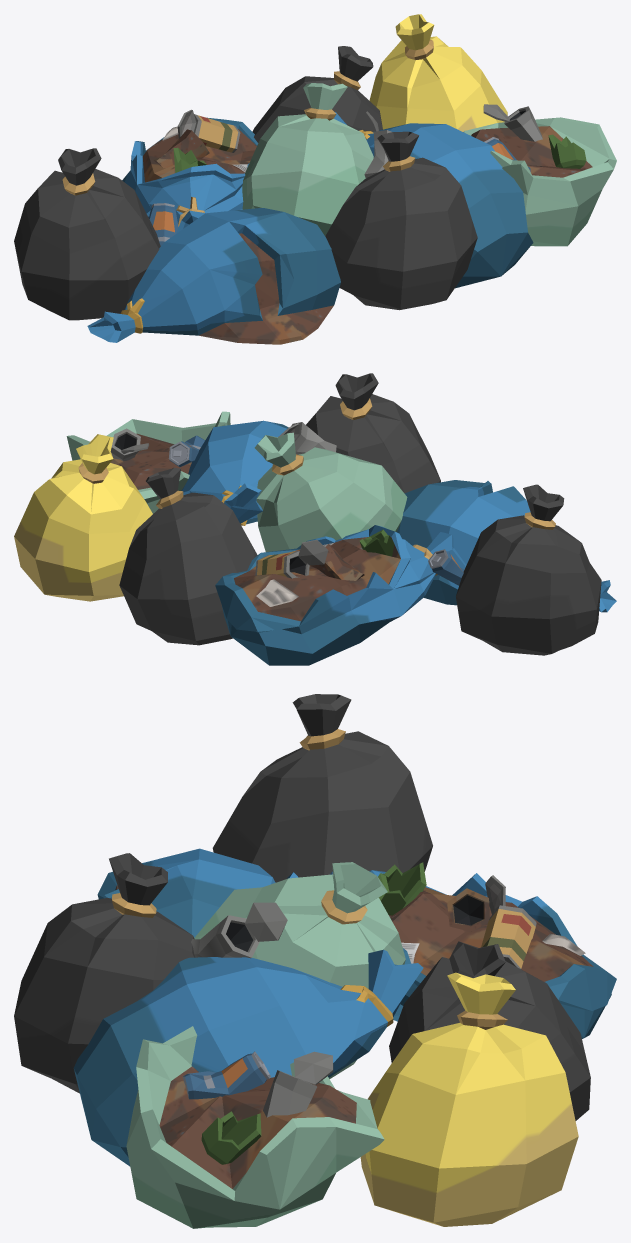
File: SM_Prop_Trash_02.obj
3 renders of one model, top to bottom at view 1: azimuth 30°, elevation 25°; view 2: azimuth 150°, elevation 25°; view 3: azimuth 270°, elevation 25°, orthographic. The views are drawn at different scales.
Visible parts, largest first — view 1: SM_Prop_Trash_02_0; view 2: SM_Prop_Trash_02_0; view 3: SM_Prop_Trash_02_0.
Boxes of the visible parts, x1,y1,x2,y2 form: SM_Prop_Trash_02_0: [14, 14, 616, 344]; SM_Prop_Trash_02_0: [14, 373, 616, 665]; SM_Prop_Trash_02_0: [14, 694, 616, 1228].
Size of the model in its own units: 2.81 by 0.8239 by 1.84.
1 material, 1 textured.
